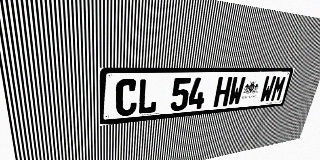4: (187, 77, 208, 110)
5: (170, 78, 191, 111)
C: (115, 79, 138, 117)
H: (213, 77, 233, 107)
L: (137, 78, 159, 115)
M: (270, 76, 287, 102)
W: (227, 76, 246, 106), (259, 76, 277, 103)
